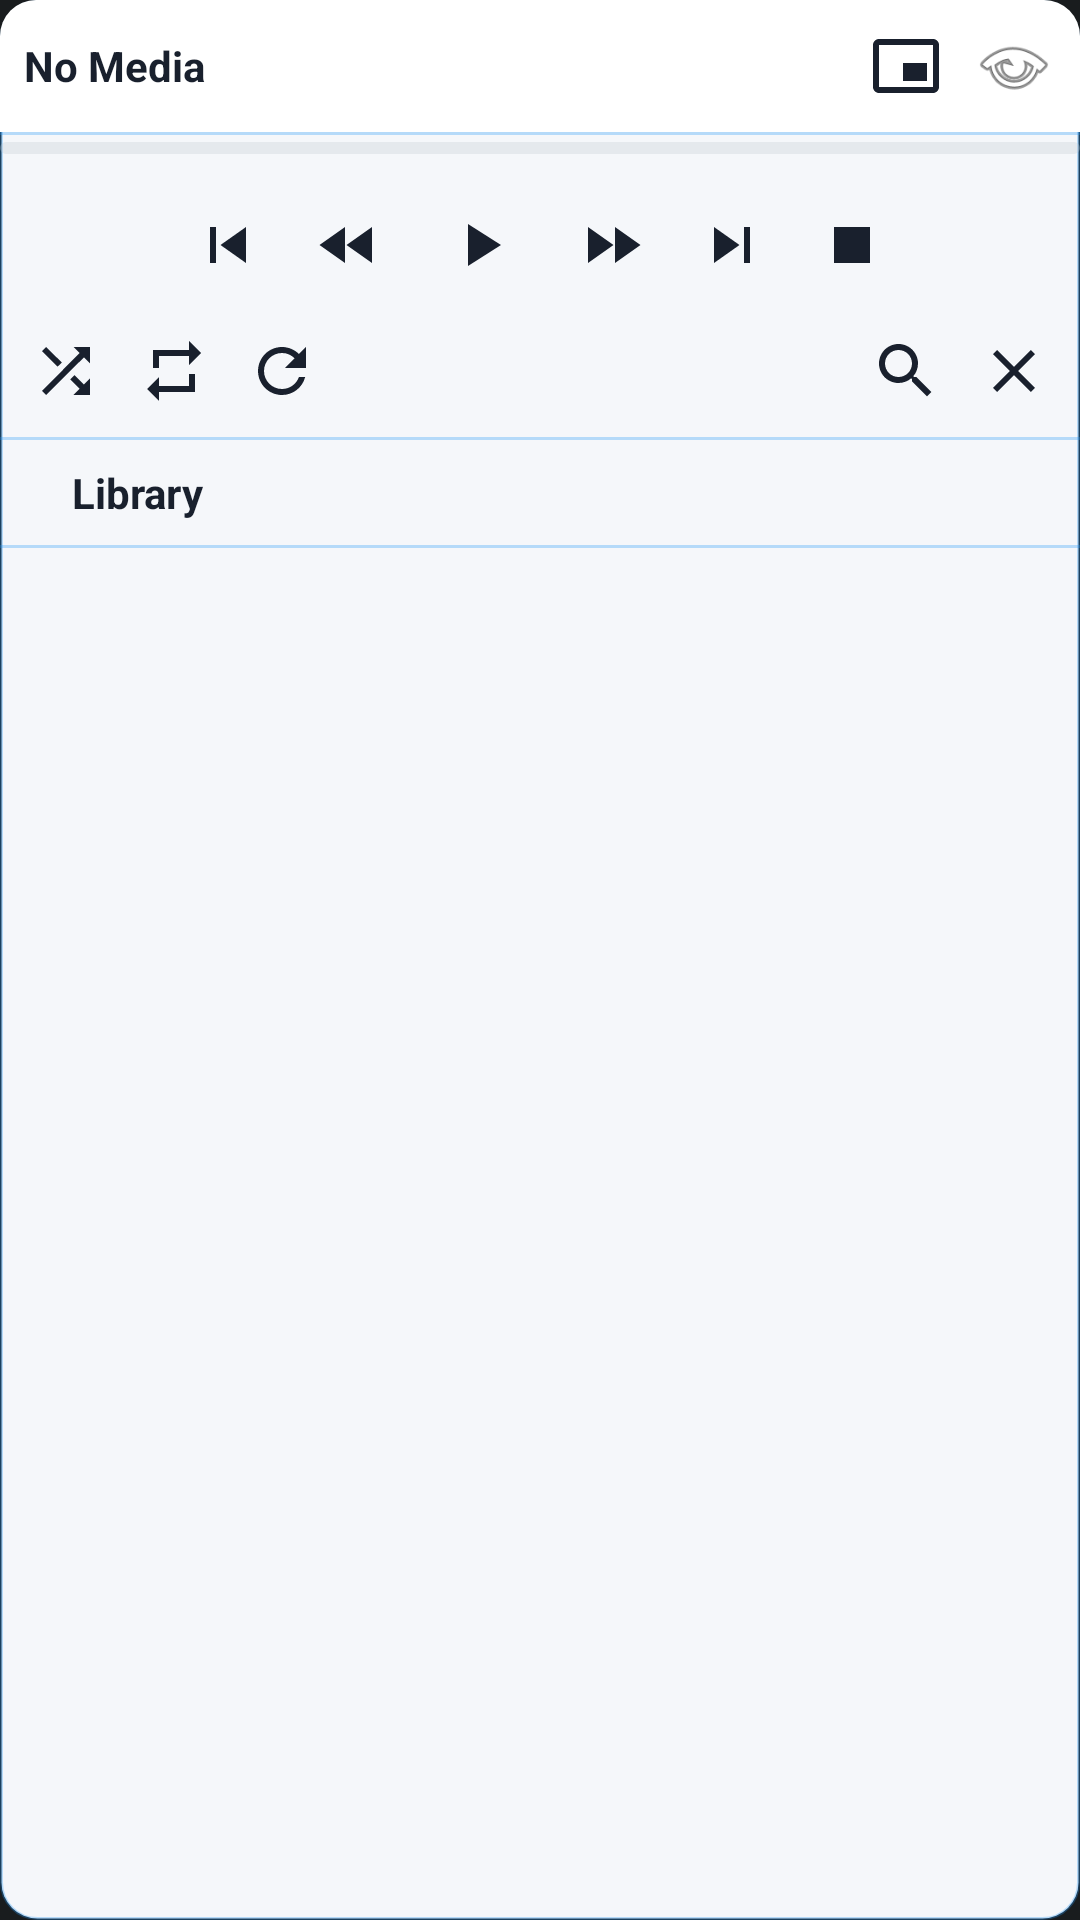

Where to tap for icons on this 1080 × 1920 app screen, as [x,y]:
view: [1014,68]
widget close: [1014,371]
widget fastforward: [614,245]
widget loop: [174,371]
widget next: [732,245]
widget pip: [906,66]
widget play: [484,245]
widget prev: [228,245]
widget refresh: [282,371]
widget rewind: [346,245]
widget search: [905,370]
widget shuffle: [66,371]
